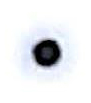cancer: (5, 15, 81, 90)
